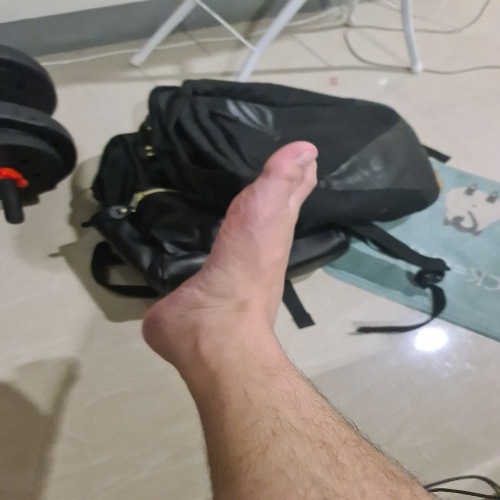3: (264, 140, 317, 197)
4: (142, 304, 188, 348)
Top_Foot: (142, 141, 317, 350)
